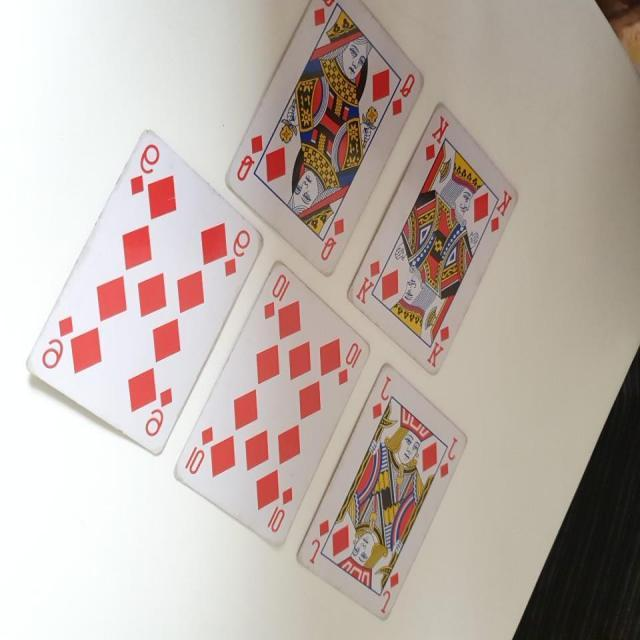10 of diamonds: (171, 260, 374, 550)
9 of diamonds: (24, 128, 264, 457)
jack of diamonds: (294, 360, 468, 620)
king of diamonds: (344, 105, 522, 379)
queen of diamonds: (225, 0, 424, 278)
